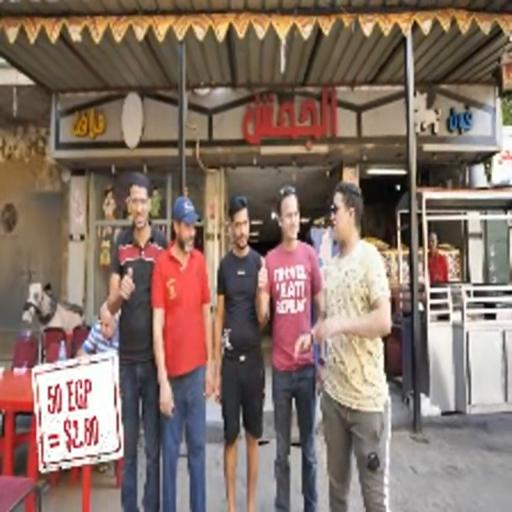nao-violencia: (97, 160, 401, 511)
